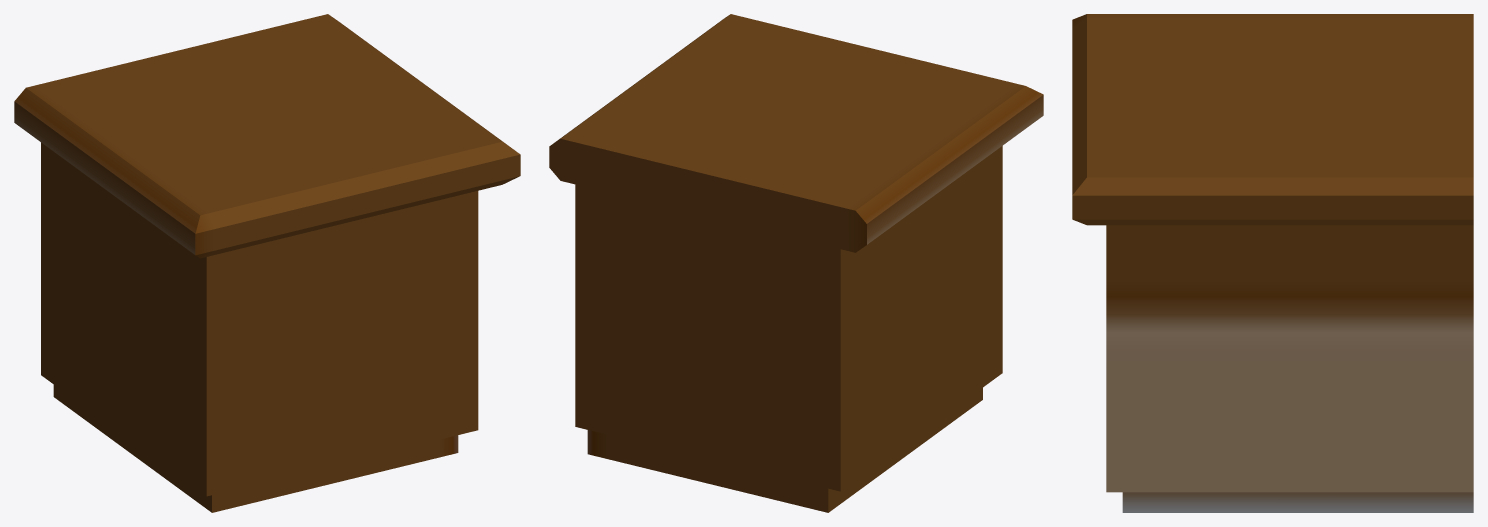
Rendered from SM_Bench_Floating_End.fbx.
The picture shows the model from 3 angles, left to right: view 1: azimuth 30°, elevation 25°; view 2: azimuth 150°, elevation 25°; view 3: azimuth 270°, elevation 25°; orthographic projection. The views are drawn at different scales.
Parts seen in each view (by area): view 1: SM_Bench_Floating_End; view 2: SM_Bench_Floating_End; view 3: SM_Bench_Floating_End.
Part boxes in pixels (left/top/right/bottom): SM_Bench_Floating_End: left=14, top=14, right=520, bottom=512; SM_Bench_Floating_End: left=549, top=14, right=1043, bottom=512; SM_Bench_Floating_End: left=1072, top=14, right=1473, bottom=512.
Size of the model in its own units: 1.08 by 1 by 1.04.
